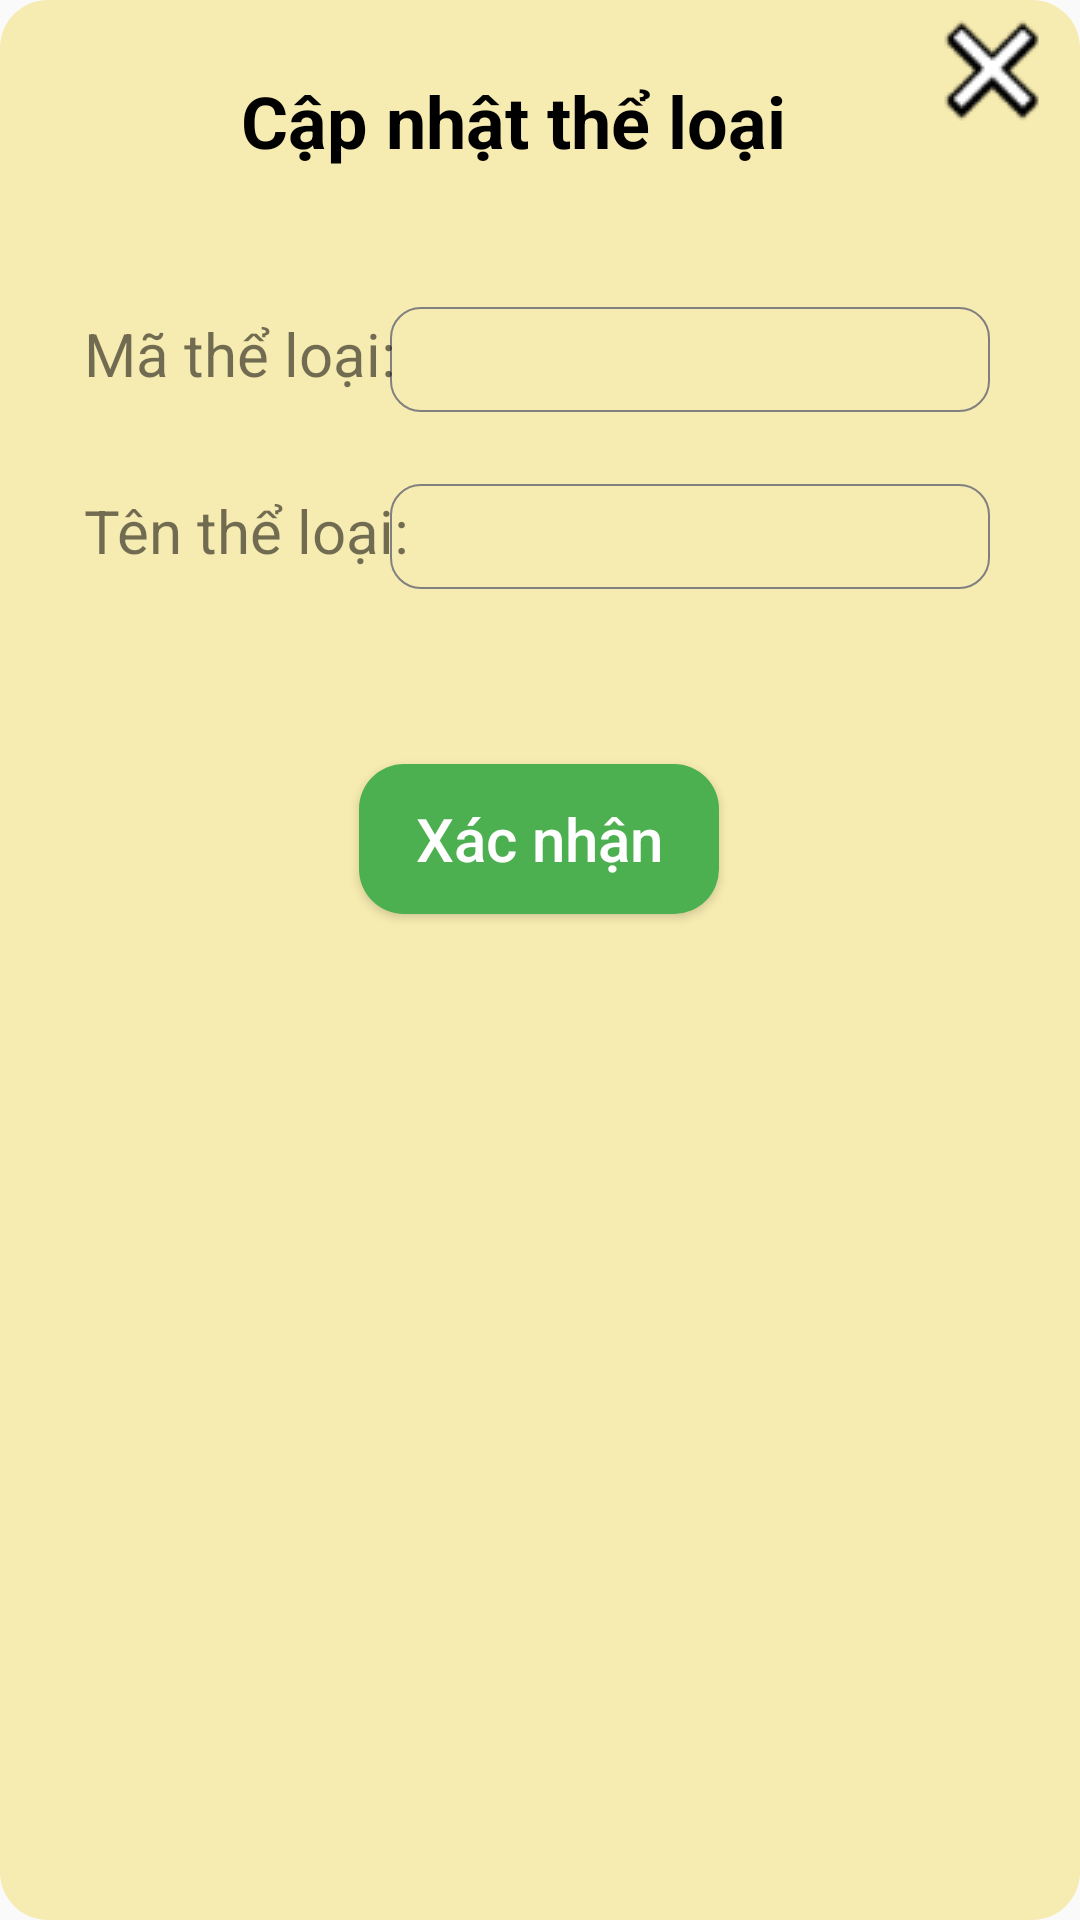

Named icons in this screenshot (1080 x 1920) and their bounding boxes, (x1, y1, x2, y2):
close: (945, 21, 1039, 120)
